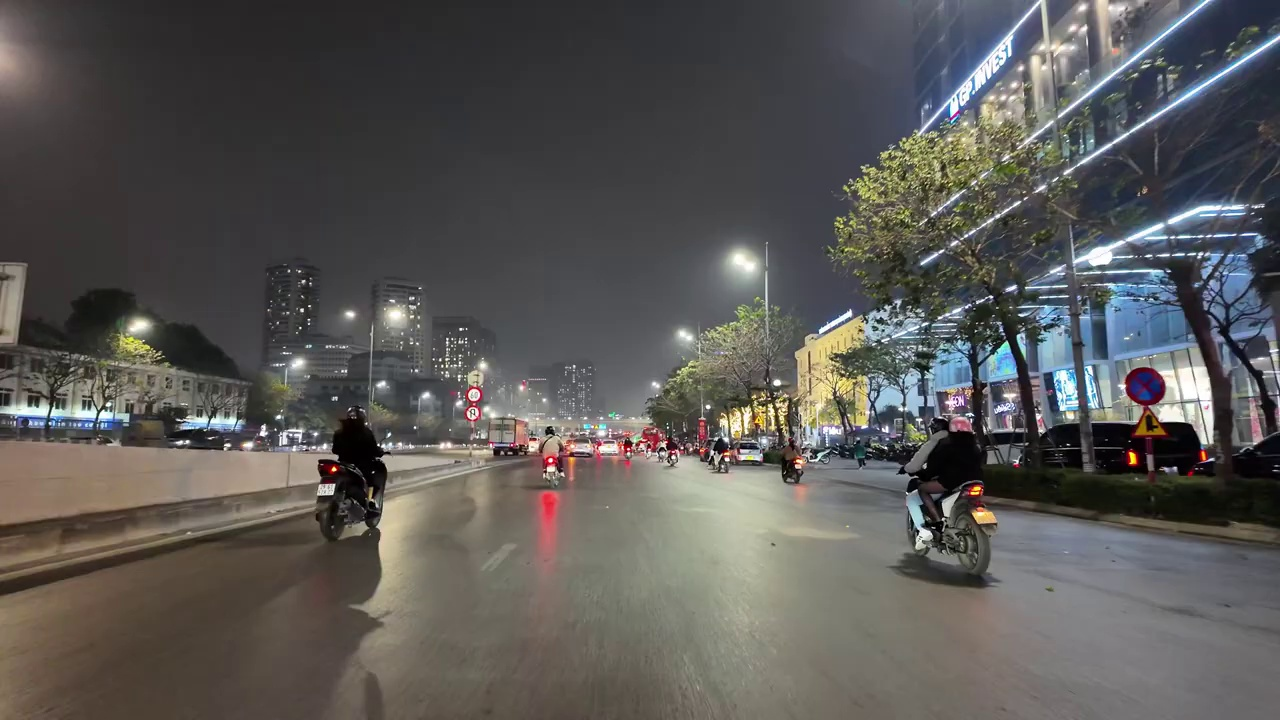acesa: (725, 247, 760, 279), (122, 316, 153, 345), (383, 303, 413, 329), (338, 306, 360, 329), (673, 326, 695, 348), (1, 43, 10, 81)
